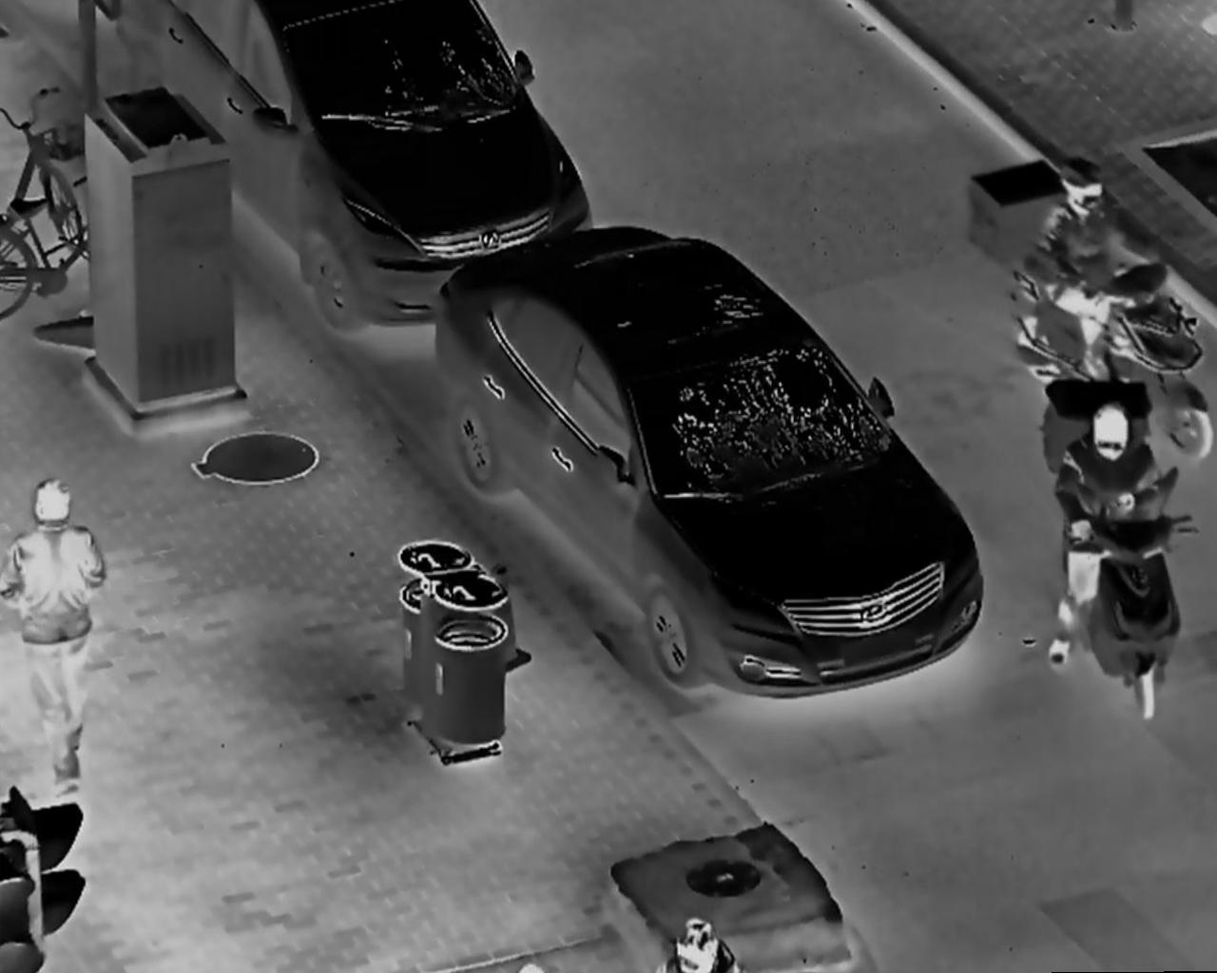person: (1040, 393, 1180, 670), (1024, 162, 1165, 384), (639, 908, 750, 973)
